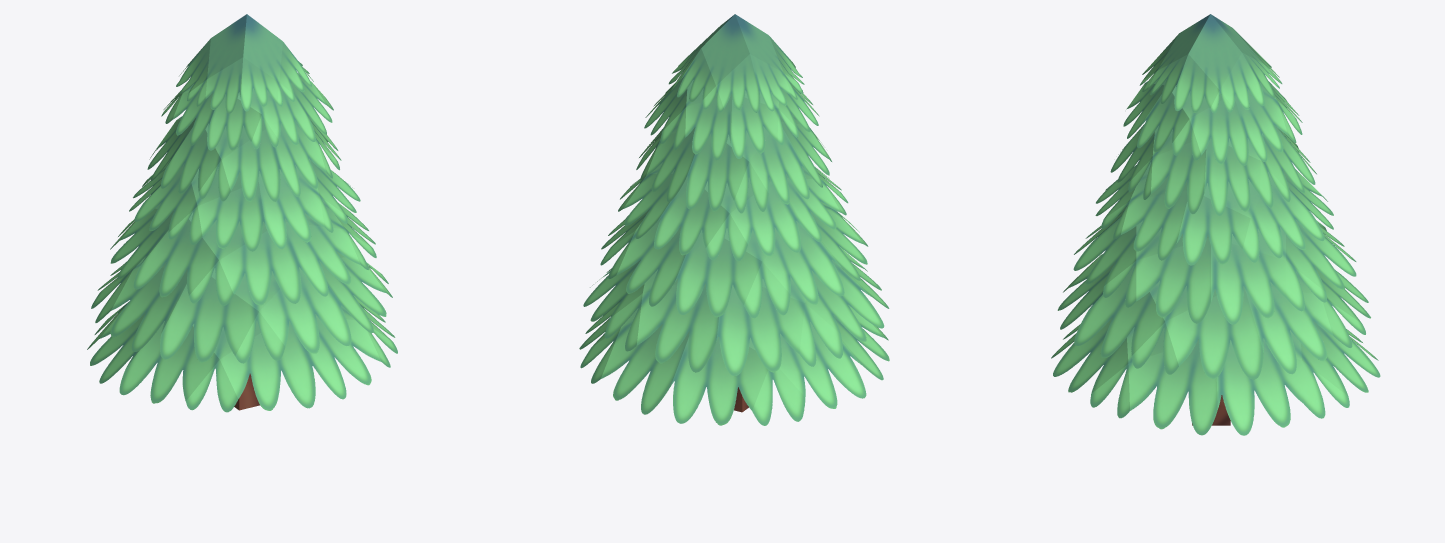
The model's file is fir2.fbx.
3 views of the same model, side by side, from view 1: azimuth 30°, elevation 25°; view 2: azimuth 150°, elevation 25°; view 3: azimuth 270°, elevation 25° (orthographic). The views are drawn at different scales.
Visible parts, largest first — view 1: Trunk; view 2: Trunk; view 3: Trunk.
Boxes of the visible parts, bbox=[...] form: Trunk: bbox=[87, 14, 397, 412]; Trunk: bbox=[579, 14, 889, 425]; Trunk: bbox=[1051, 14, 1380, 435].
Bounding box in the file's own units: 115 × 125 × 114.
